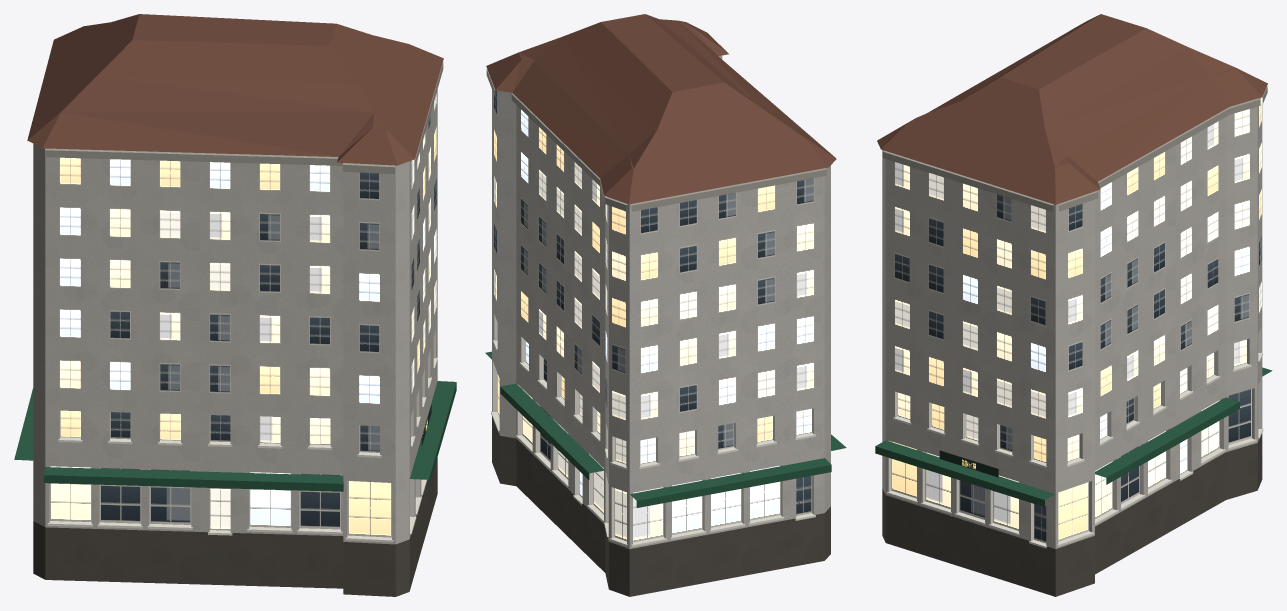
The model's file is langC_goldengate.glb.
3 views of the same model, side by side, from view 1: azimuth 30°, elevation 25°; view 2: azimuth 150°, elevation 25°; view 3: azimuth 270°, elevation 25° (orthographic). The views are drawn at different scales.
Visible parts, largest first — view 1: langC_goldengate; view 2: langC_goldengate; view 3: langC_goldengate.
Boxes of the visible parts, x1=… form: langC_goldengate: x1=14, y1=14, x2=456, y2=596; langC_goldengate: x1=485, y1=14, x2=846, y2=596; langC_goldengate: x1=875, y1=14, x2=1272, y2=596.
Bounding box in the file's own units: 24.61 × 28.79 × 22.62.
3 materials, 3 textured.
